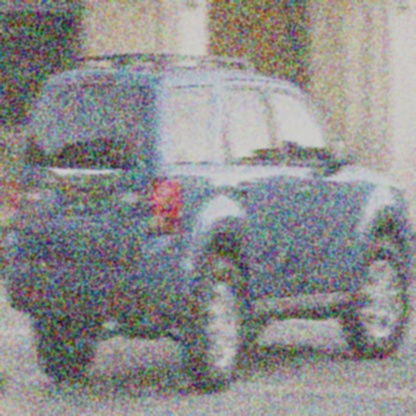Vehicle: (2, 49, 413, 395)
